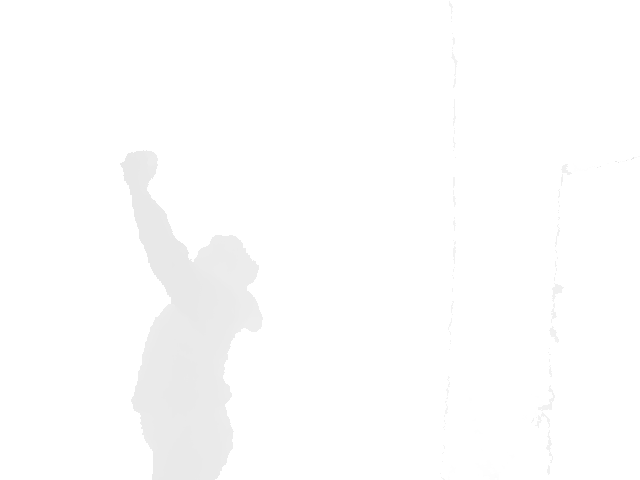hand: (119, 148, 159, 186)
head: (192, 234, 263, 292)
person: (120, 148, 264, 479)
